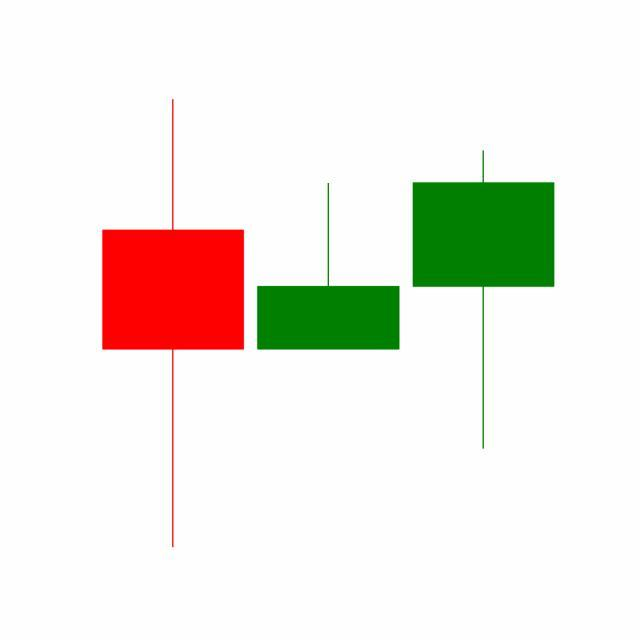Hammer: (406, 148, 562, 454)
